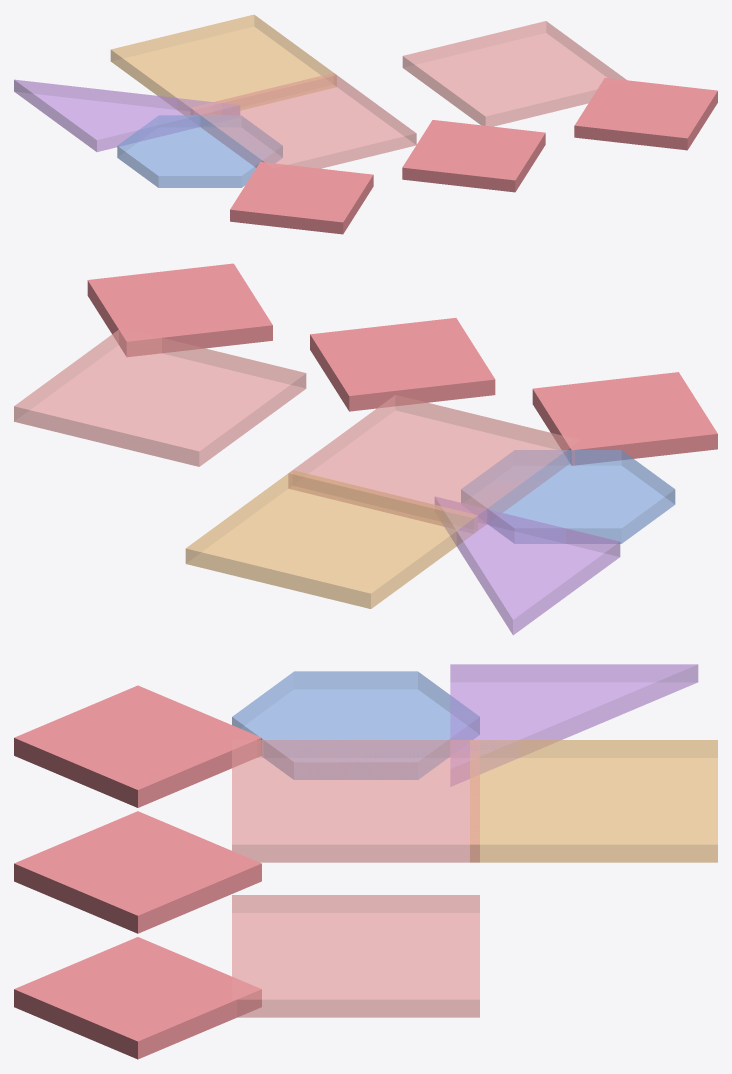
Rendered from treno_step7.glb.
The picture shows the model from 3 angles, top to bottom: view 1: azimuth 30°, elevation 25°; view 2: azimuth 150°, elevation 25°; view 3: azimuth 270°, elevation 25°; orthographic projection. The views are drawn at different scales.
Parts seen in each view (by area): view 1: quadrato_grande.001, quadrato_piccolo, quadrato_grande, esagono, triangolo_rettangolo, rombo.002, rombo, rombo.001; view 2: quadrato_piccolo, quadrato_grande.001, quadrato_grande, esagono, rombo.001, rombo.002, rombo, triangolo_rettangolo; view 3: quadrato_piccolo, quadrato_grande.001, quadrato_grande, esagono, rombo.001, rombo, rombo.002, triangolo_rettangolo.
Part boxes in pixels (x1=…): quadrato_grande.001: x1=402, y1=21, x2=626, y2=126; quadrato_piccolo: x1=110, y1=14, x2=336, y2=115; quadrato_grande: x1=191, y1=73, x2=416, y2=168; esagono: x1=117, y1=115, x2=282, y2=187; triangolo_rettangolo: x1=14, y1=79, x2=239, y2=151; rombo.002: x1=574, y1=78, x2=717, y2=150; rombo: x1=230, y1=162, x2=373, y2=234; rombo.001: x1=402, y1=120, x2=545, y2=192; quadrato_piccolo: x1=185, y1=470, x2=477, y2=608; quadrato_grande.001: x1=14, y1=329, x2=306, y2=466; quadrato_grande: x1=288, y1=395, x2=580, y2=533; esagono: x1=461, y1=450, x2=675, y2=543; rombo.001: x1=310, y1=318, x2=495, y2=411; rombo.002: x1=87, y1=263, x2=272, y2=357; rombo: x1=532, y1=372, x2=717, y2=465; triangolo_rettangolo: x1=435, y1=496, x2=620, y2=635; quadrato_piccolo: x1=470, y1=740, x2=717, y2=862; quadrato_grande.001: x1=232, y1=895, x2=479, y2=1017; quadrato_grande: x1=232, y1=740, x2=479, y2=862; esagono: x1=232, y1=671, x2=479, y2=779; rombo.001: x1=14, y1=811, x2=261, y2=933; rombo: x1=14, y1=685, x2=261, y2=807; rombo.002: x1=14, y1=937, x2=261, y2=1059; triangolo_rettangolo: x1=450, y1=664, x2=698, y2=786.
Bounding box in the file's own units: 3.6 × 0.08 × 2.84.
